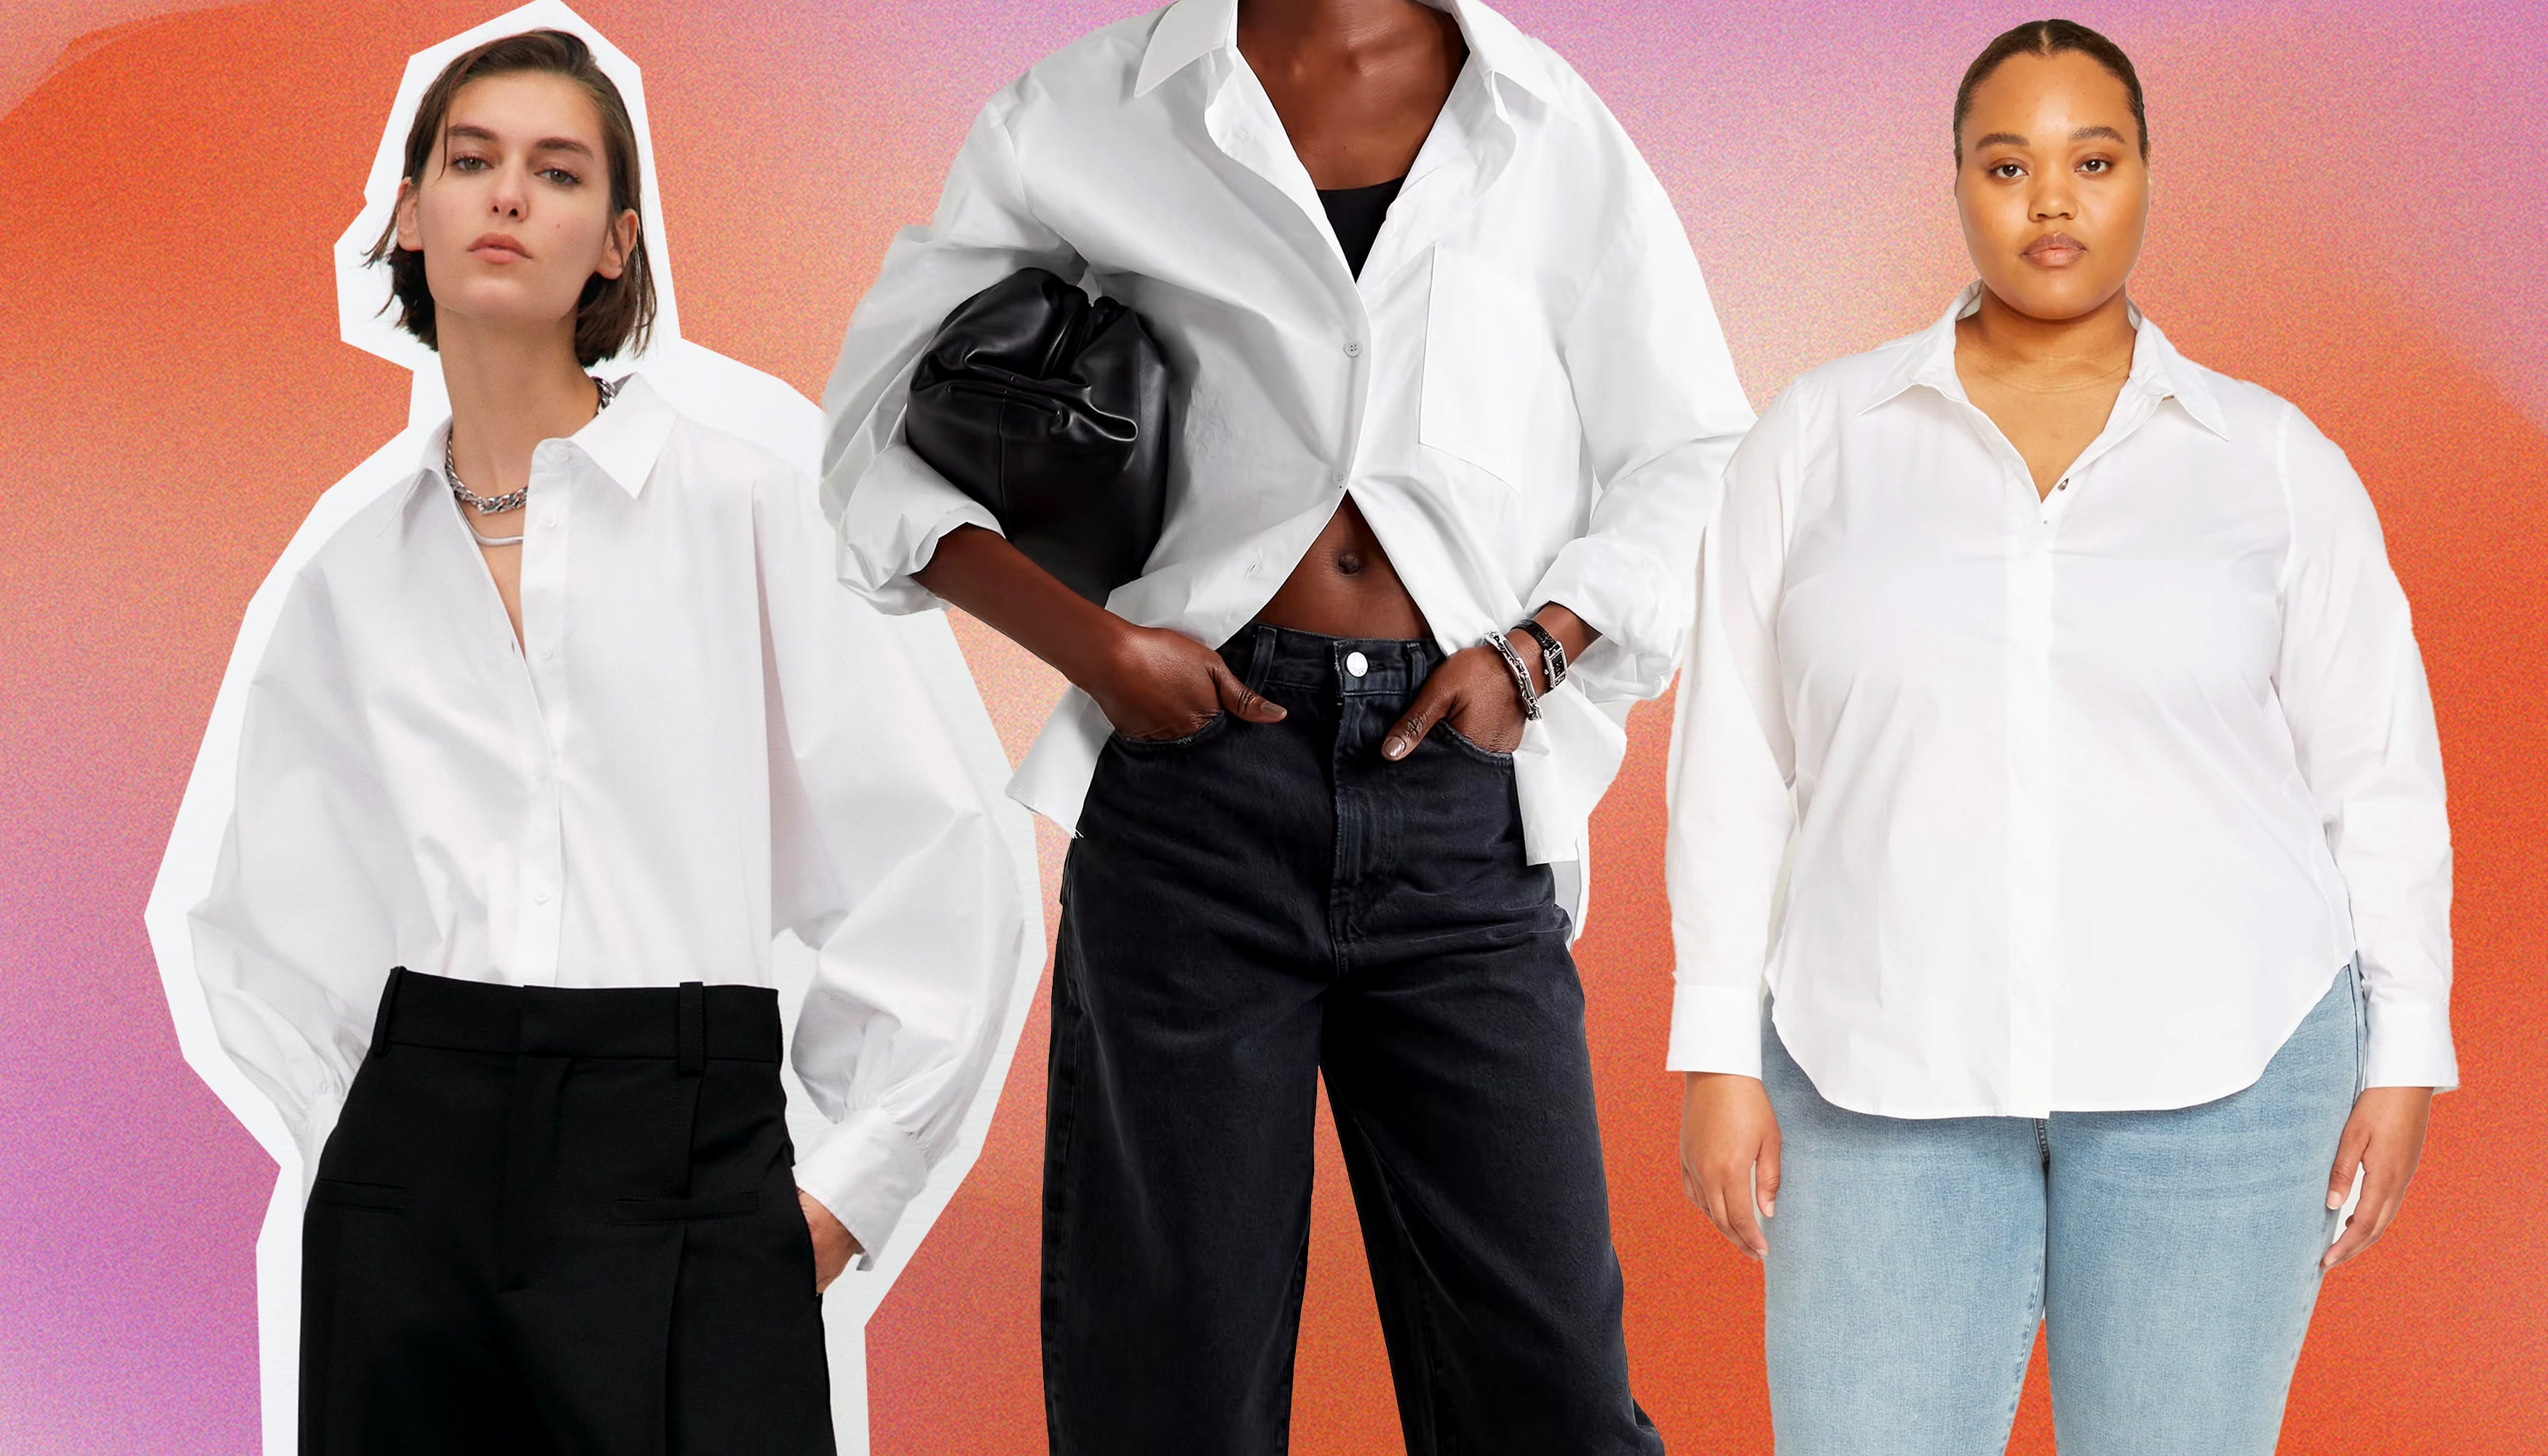blouse: (182, 409, 1025, 1255), (1652, 331, 2487, 1092), (927, 30, 1746, 805)
